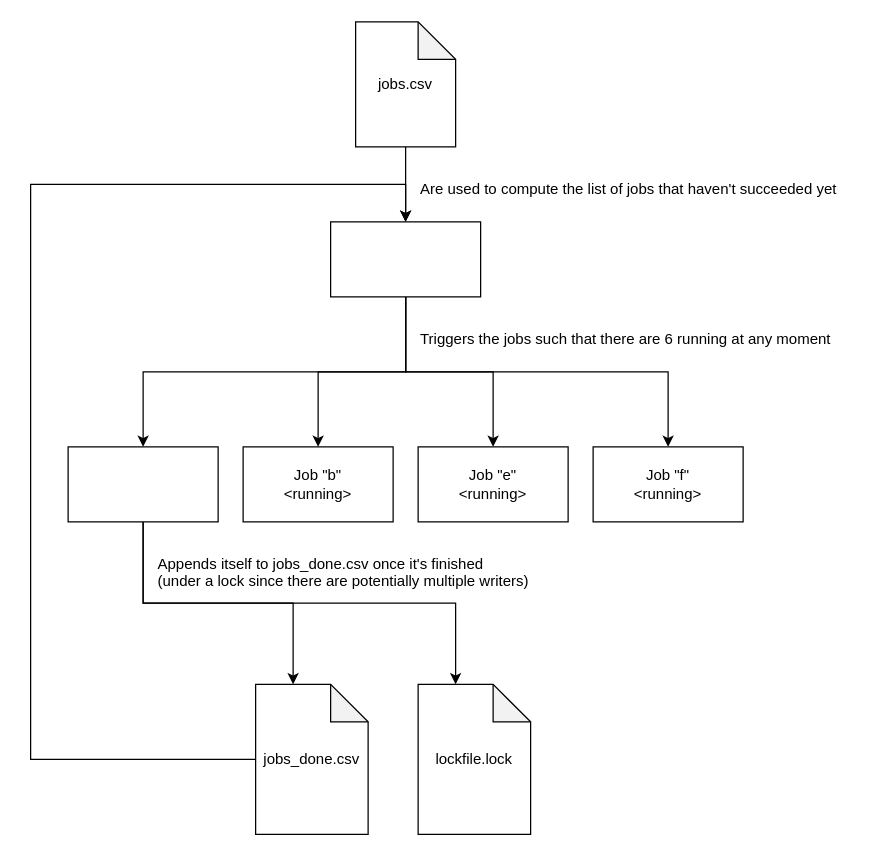
Some shapes in this 878 by 856 pixel diagram are drawn without their labels. Each missing label, with the centre of its shape:
Job "a" <terminating>: [142,484]
Scheduler: [405,259]
